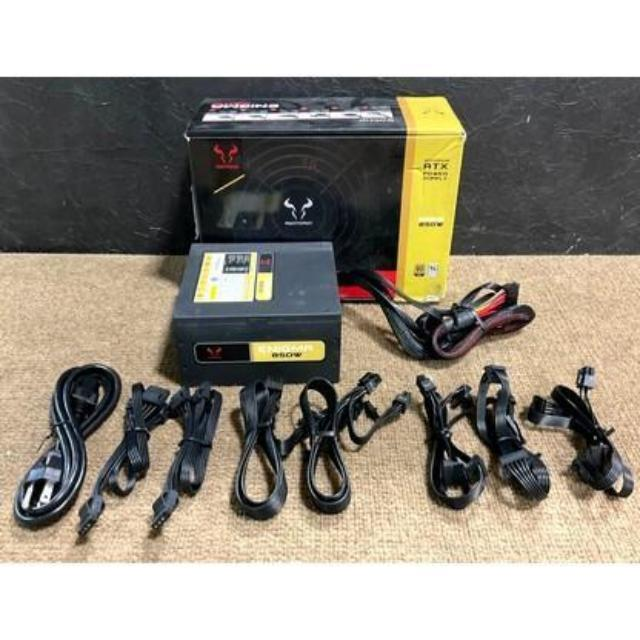PSU: (160, 238, 348, 384)
